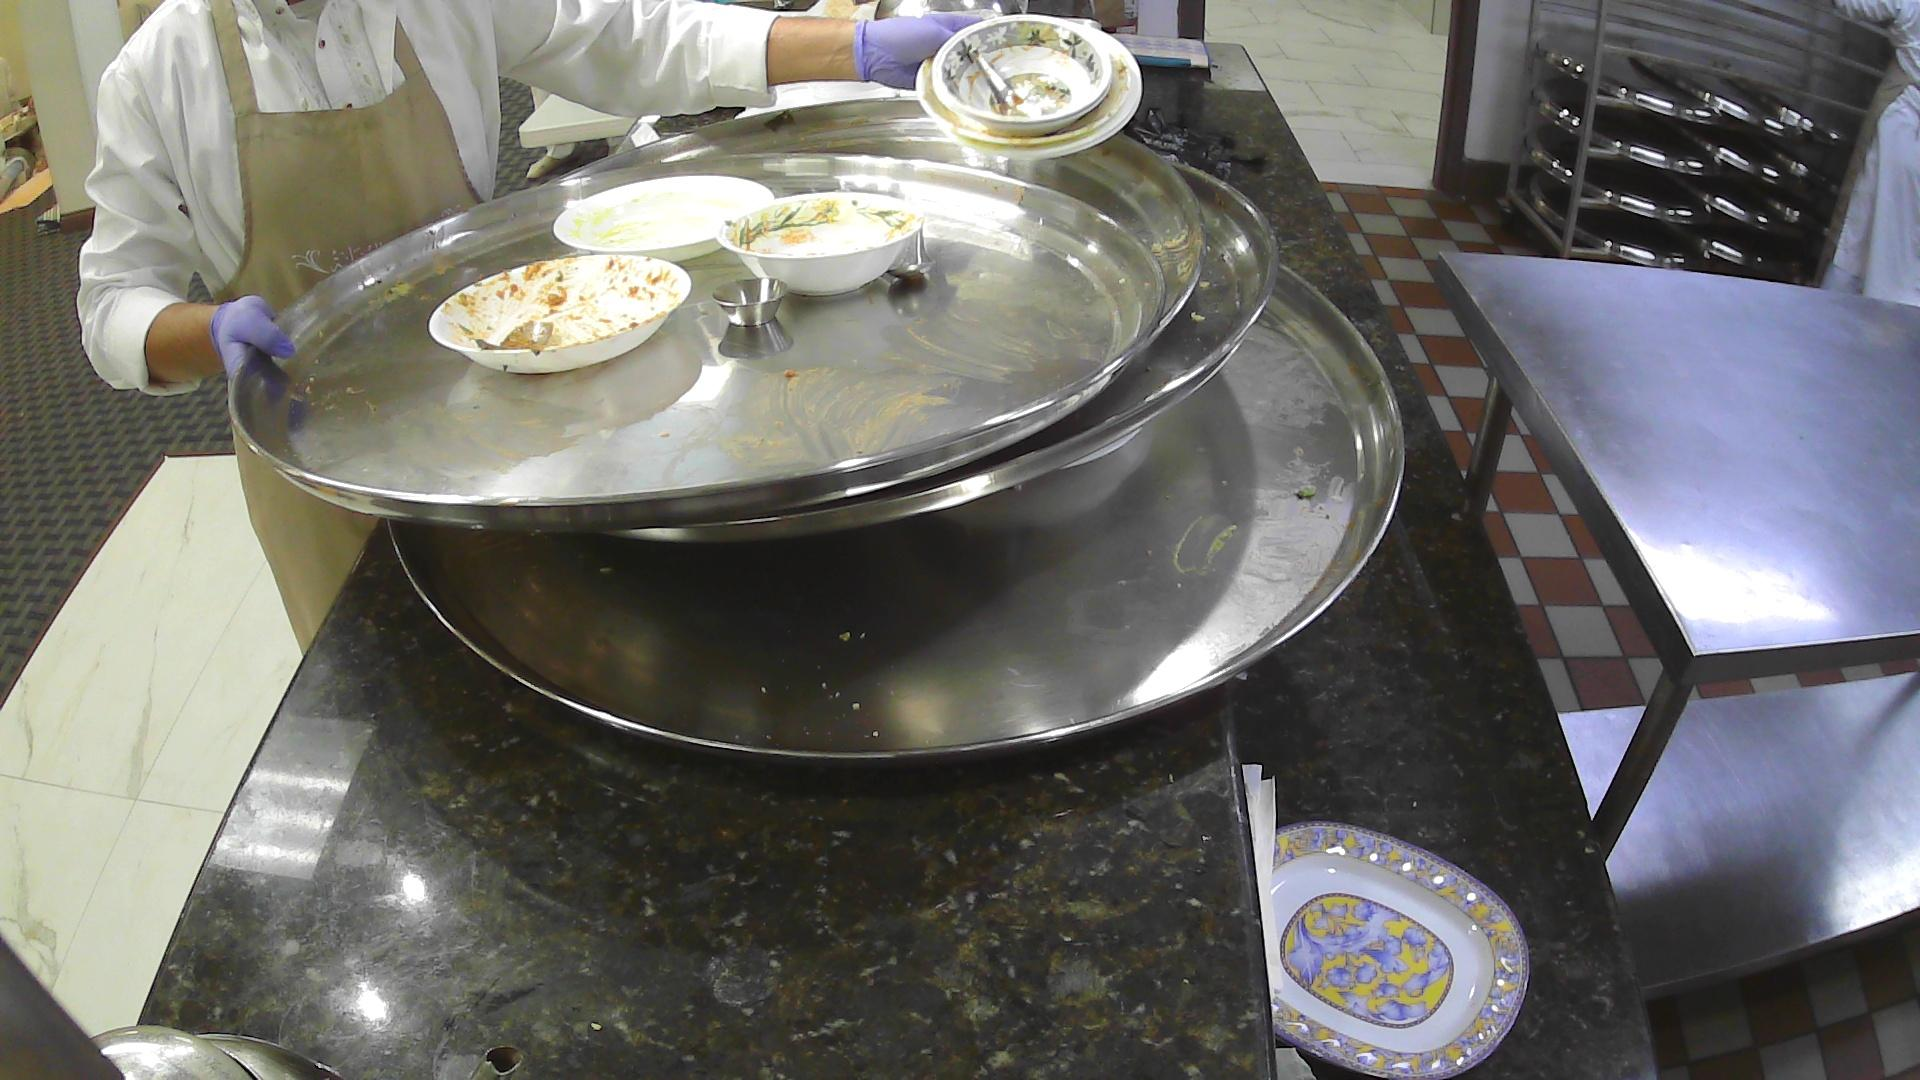thaal: (375, 255, 1414, 796), (225, 144, 1172, 533), (576, 157, 1287, 556), (585, 94, 1215, 361)
